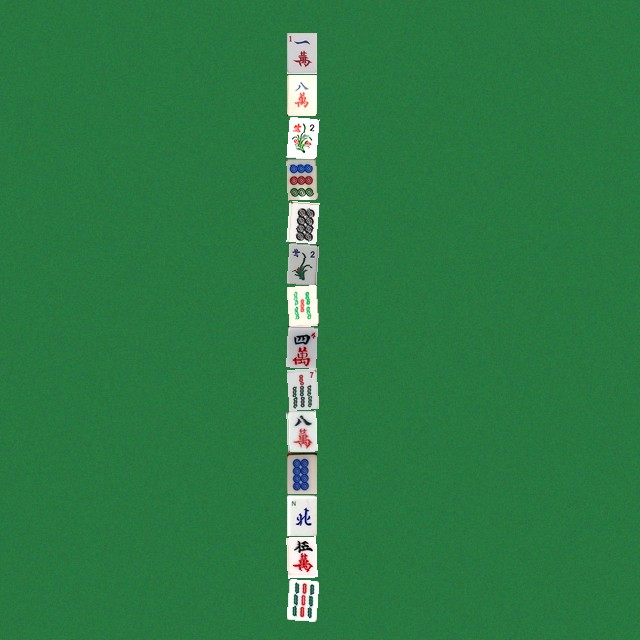tile: (286, 32, 316, 73), (286, 74, 316, 115), (286, 116, 316, 157), (286, 158, 316, 199), (286, 200, 316, 241), (286, 242, 316, 283), (286, 284, 316, 325), (286, 326, 316, 367), (286, 368, 316, 409), (286, 410, 316, 451), (286, 452, 316, 493), (286, 494, 316, 535), (286, 536, 316, 577), (286, 578, 316, 619)
